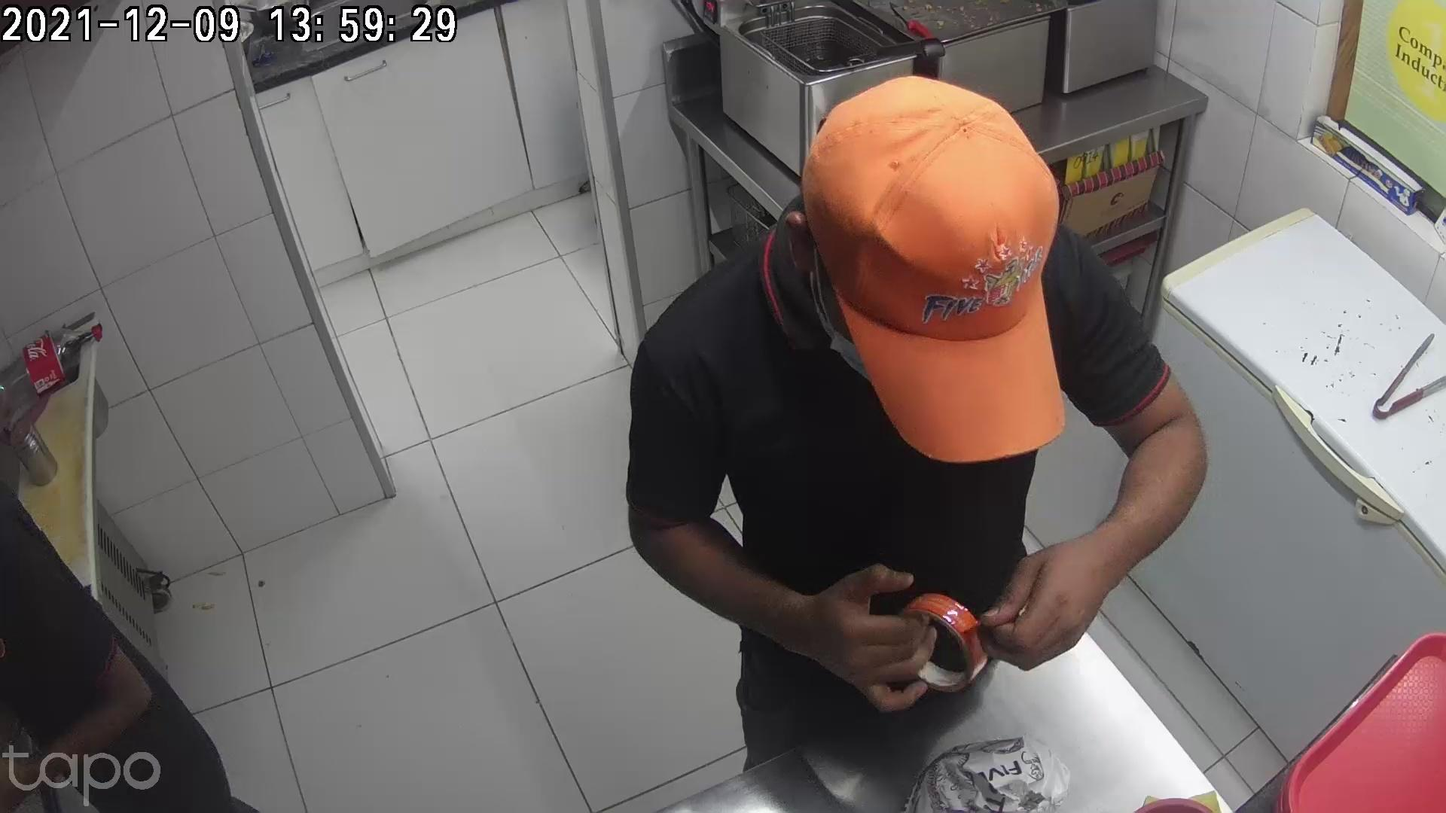no_gloves: (787, 569, 927, 700), (992, 528, 1106, 663)
